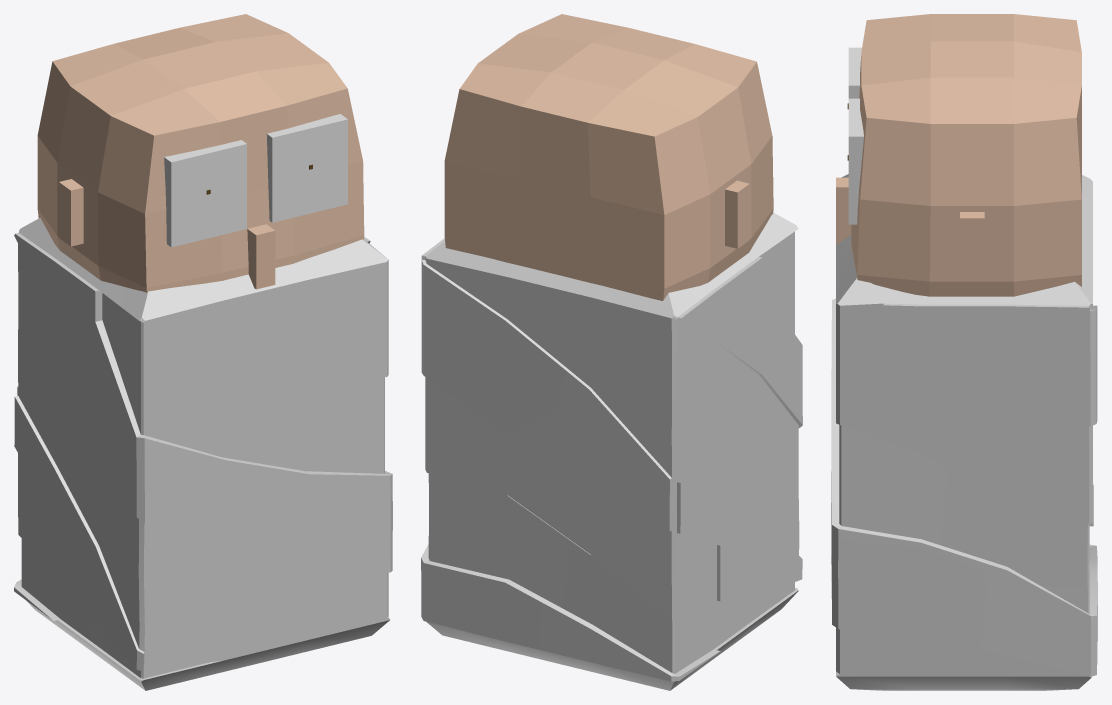
The model's file is bebis2fbx.fbx.
The picture shows the model from 3 angles, left to right: view 1: azimuth 30°, elevation 25°; view 2: azimuth 150°, elevation 25°; view 3: azimuth 270°, elevation 25°; orthographic projection. The views are drawn at different scales.
Visible parts, largest first — view 1: pCube3, polySurface6, polySurface9, polySurface3, polySurface10, polySurface2; view 2: pCube3, polySurface6, polySurface2; view 3: pCube3, polySurface6, polySurface3, polySurface5, polySurface10, polySurface9.
Part boxes in pixels (x1=…): pCube3: x1=14, y1=218, x2=392, y2=690; polySurface6: x1=37, y1=14, x2=364, y2=292; polySurface9: x1=164, y1=140, x2=246, y2=247; polySurface3: x1=266, y1=114, x2=347, y2=222; polySurface10: x1=247, y1=224, x2=275, y2=289; polySurface2: x1=59, y1=179, x2=83, y2=246; pCube3: x1=421, y1=212, x2=802, y2=690; polySurface6: x1=444, y1=14, x2=773, y2=300; polySurface2: x1=725, y1=180, x2=749, y2=248; pCube3: x1=831, y1=174, x2=1097, y2=690; polySurface6: x1=851, y1=14, x2=1081, y2=296; polySurface3: x1=848, y1=98, x2=863, y2=224; polySurface5: x1=960, y1=212, x2=984, y2=276; polySurface10: x1=836, y1=177, x2=851, y2=243; polySurface9: x1=848, y1=47, x2=861, y2=98.
Bounding box in the file's own units: 10.57 × 21.38 × 8.75.
